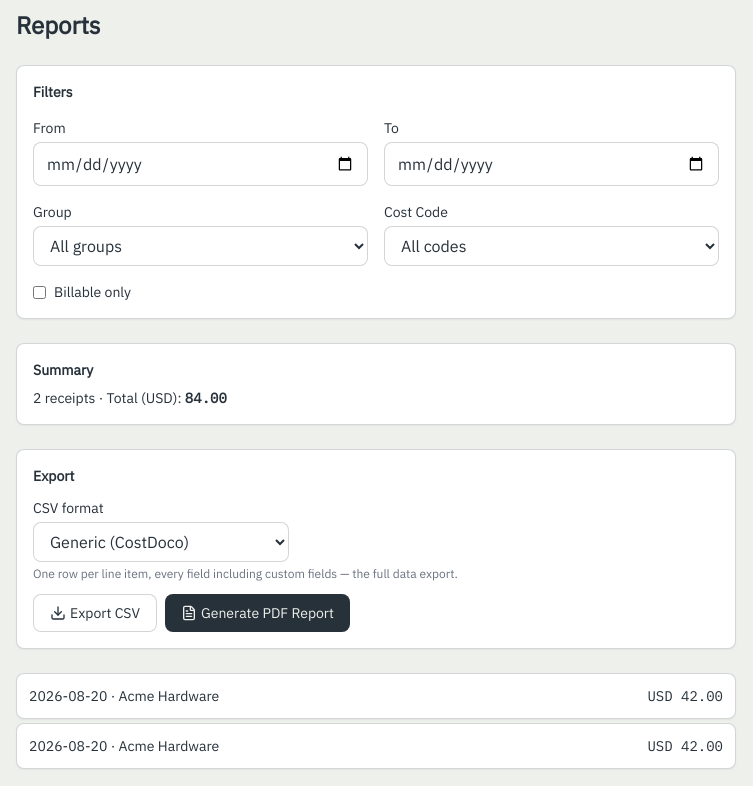
Scenario: Reports › filters by group, including an explicit Uncategorized filter
Expected: the text "2 receipts · Total (USD): 84.00" is shown, [33,389,227,407]
Select "Client A" in the dropdown labelled "Group" at [200, 246], box [33,226,368,266]
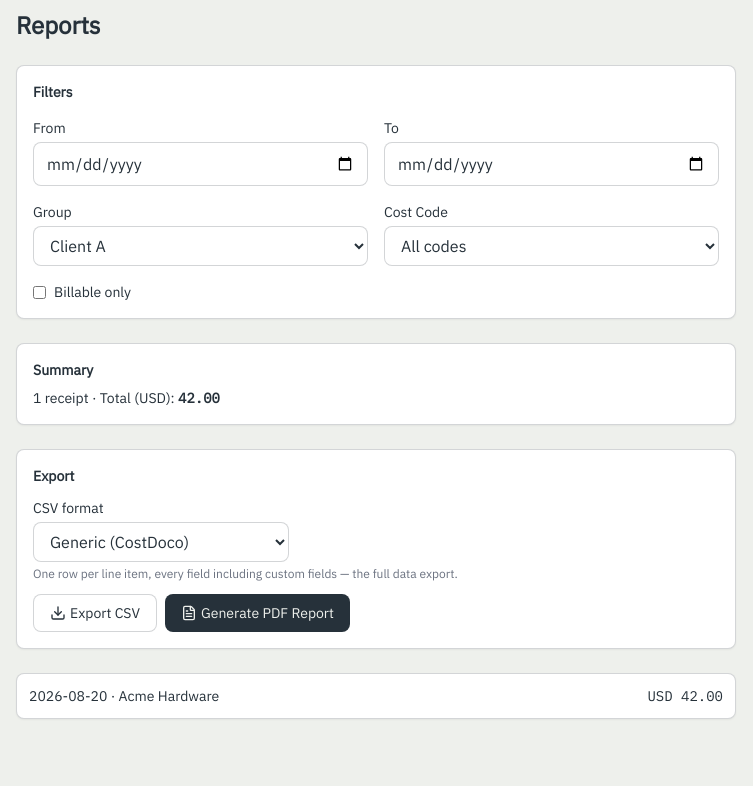
Expected: the text "1 receipt · Total (USD): 42.00" is shown, [33,389,220,407]
